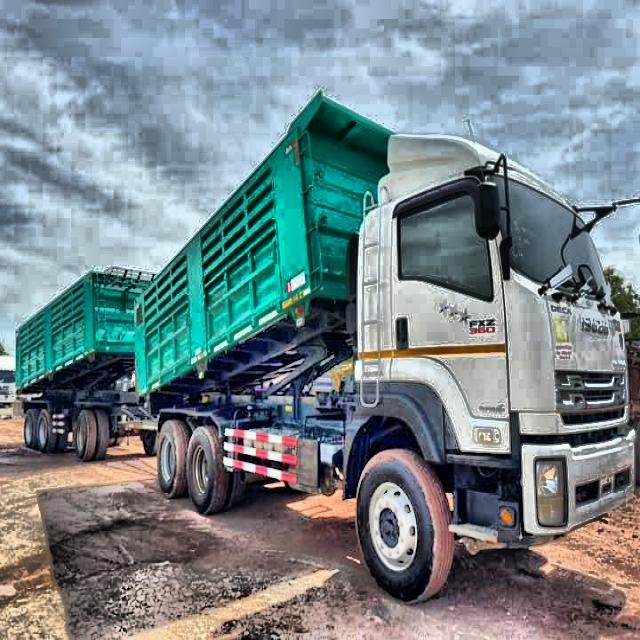trailer: (7, 80, 640, 616)
